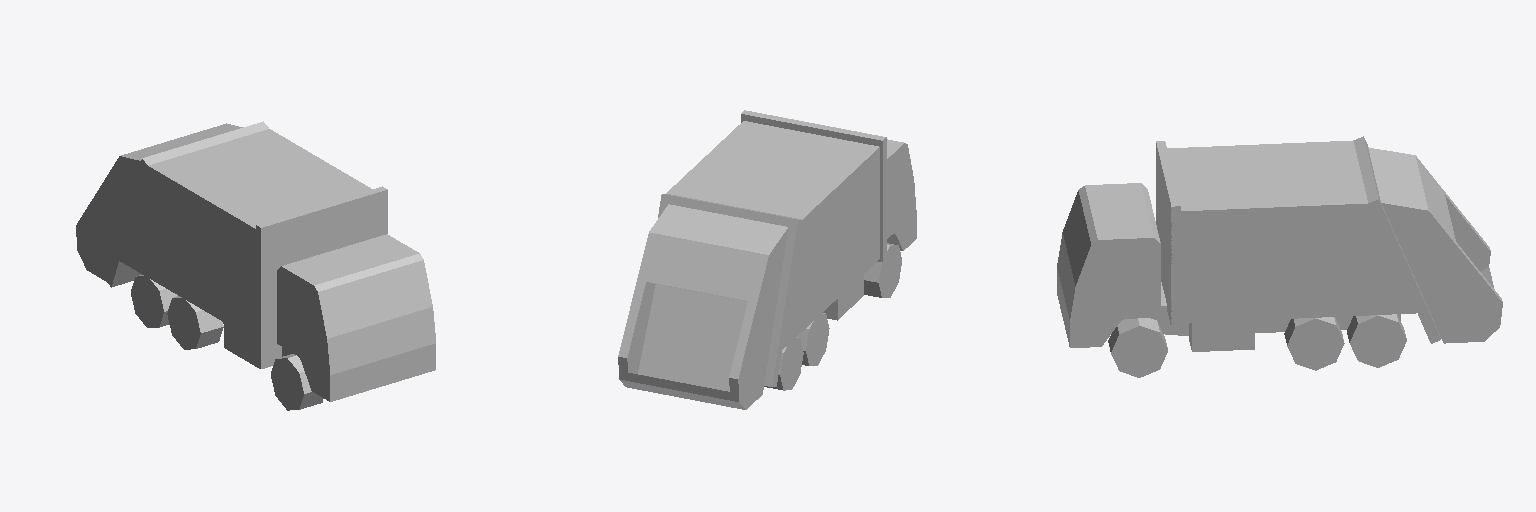
File: car2.obj
3 renders of one model, left to right at view 1: azimuth 30°, elevation 25°; view 2: azimuth 150°, elevation 25°; view 3: azimuth 270°, elevation 25°, orthographic.
Parts seen in each view (by area): view 1: pasted__pasted__null_7 pasted__group14 group44; view 2: pasted__pasted__null_7 pasted__group14 group44; view 3: pasted__pasted__null_7 pasted__group14 group44.
Part boxes in pixels (x1,y1,x2,y2): pasted__pasted__null_7 pasted__group14 group44: (76,121,435,410); pasted__pasted__null_7 pasted__group14 group44: (618,110,916,409); pasted__pasted__null_7 pasted__group14 group44: (1057,136,1502,377).
Size of the model in its own units: 10.68 by 11.47 by 26.6.